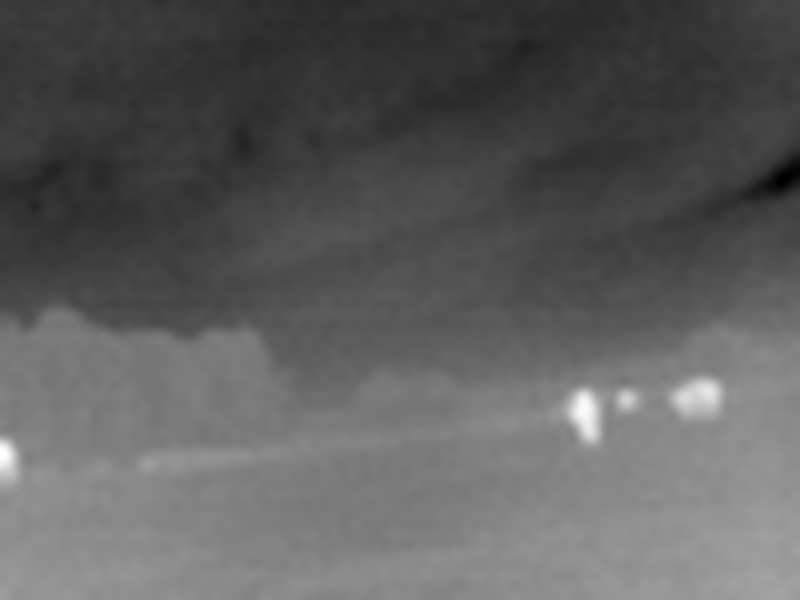elephant: (559, 376, 756, 449)
